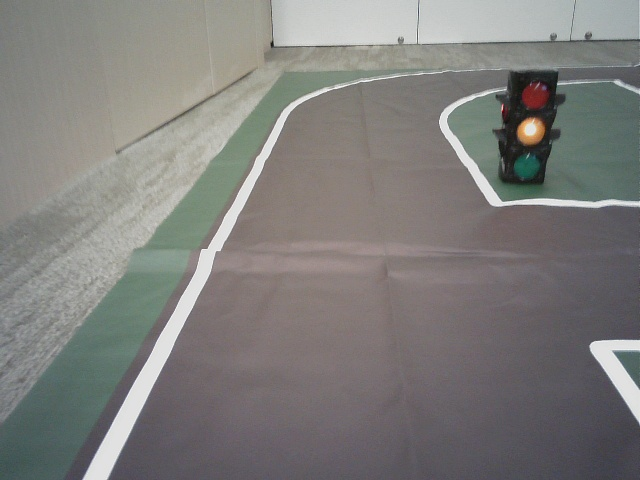yellow: (509, 73, 553, 184)
